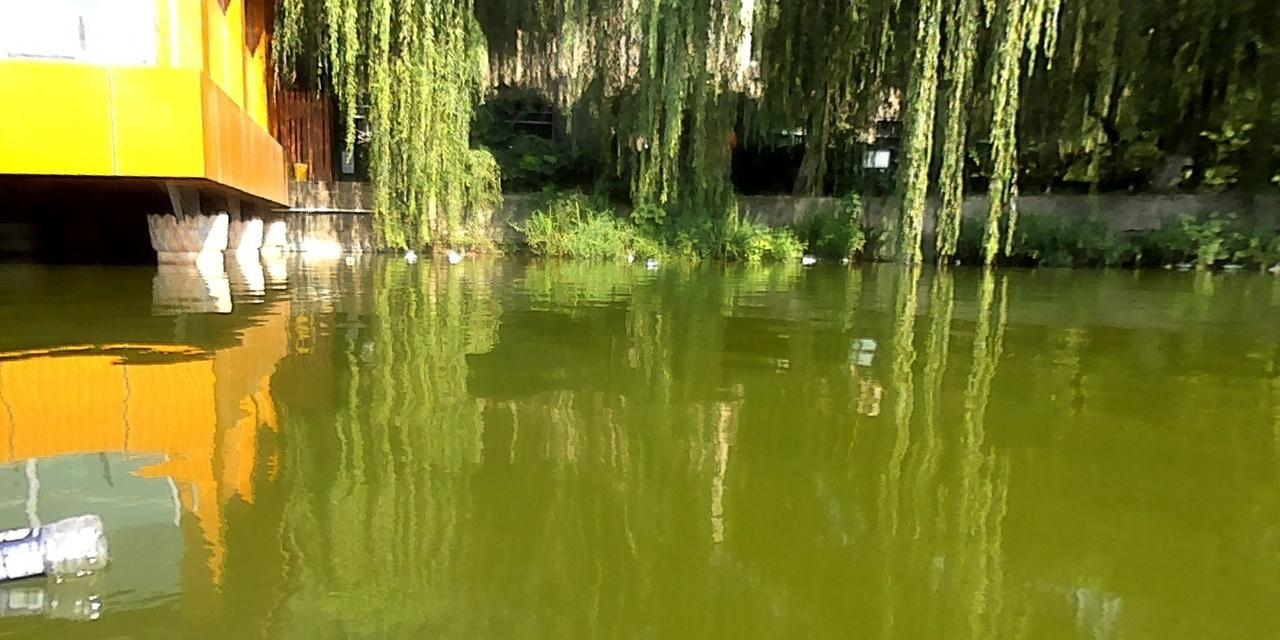bottle: (0, 512, 111, 583), (402, 249, 416, 264), (800, 254, 817, 266), (644, 258, 658, 268)
